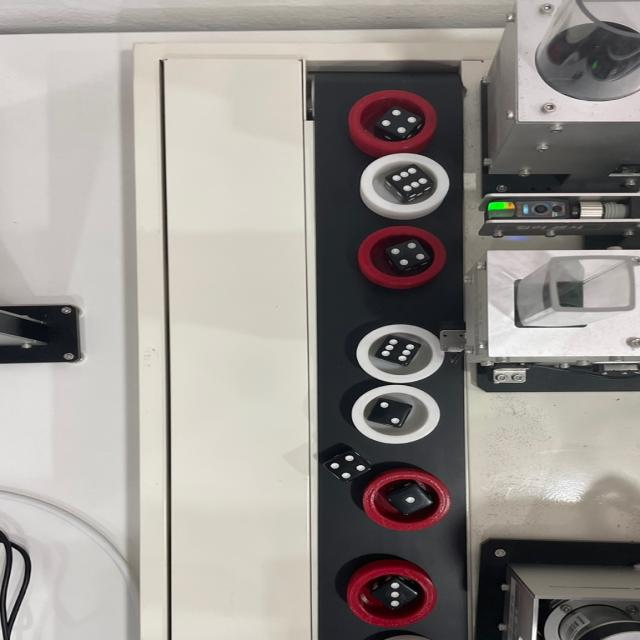DICE1: (399, 490, 422, 511)
DICE2: (374, 401, 407, 426)
DICE3: (378, 580, 408, 612)
DICE4: (377, 107, 422, 137), (387, 240, 428, 269), (327, 452, 368, 480)
DICE6: (389, 164, 432, 196), (379, 337, 417, 363)
RedChip: (357, 226, 449, 288), (347, 88, 436, 150), (348, 568, 436, 626), (362, 472, 448, 531)
WhiteChip: (360, 152, 452, 214), (354, 324, 446, 384), (348, 384, 441, 443)
